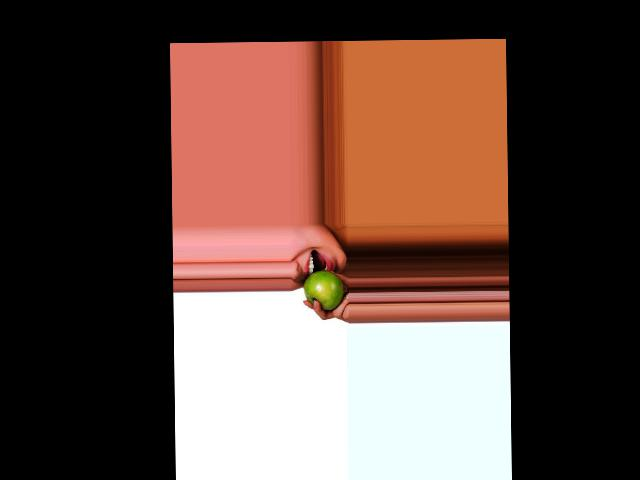apple: (303, 268, 343, 312)
